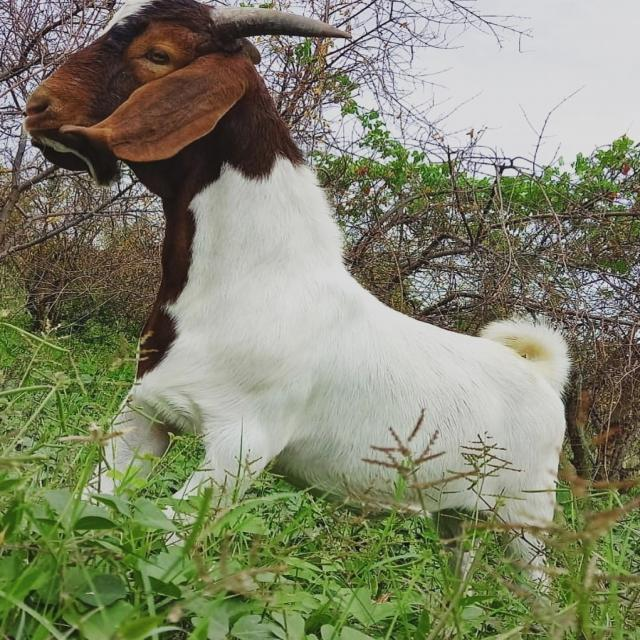goat: (3, 2, 640, 572)
